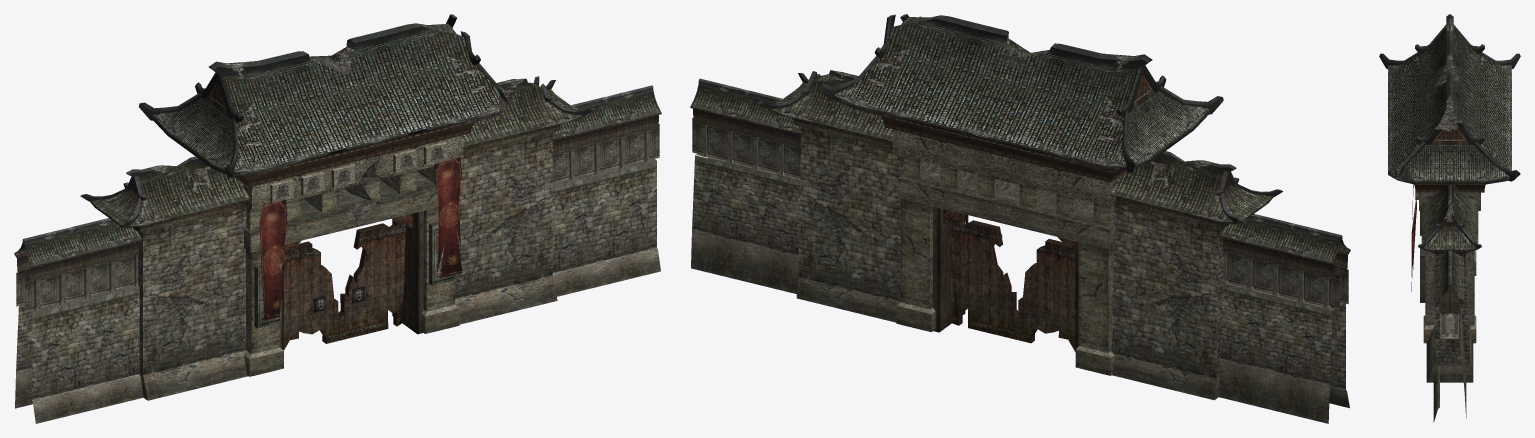
File: b_general_gate_01.fbx
The picture shows the model from 3 angles, left to right: view 1: azimuth 30°, elevation 25°; view 2: azimuth 150°, elevation 25°; view 3: azimuth 270°, elevation 25°; orthographic projection. The views are drawn at different scales.
Visible parts, largest first — view 1: B_general_gate_01; view 2: B_general_gate_01; view 3: B_general_gate_01.
Part boxes in pixels (left/top/right/bottom): B_general_gate_01: left=14, top=14, right=661, bottom=423; B_general_gate_01: left=690, top=14, right=1350, bottom=423; B_general_gate_01: left=1379, top=14, right=1520, bottom=422.
Bounding box in the file's own units: 31.67 × 14.76 × 7.77.
